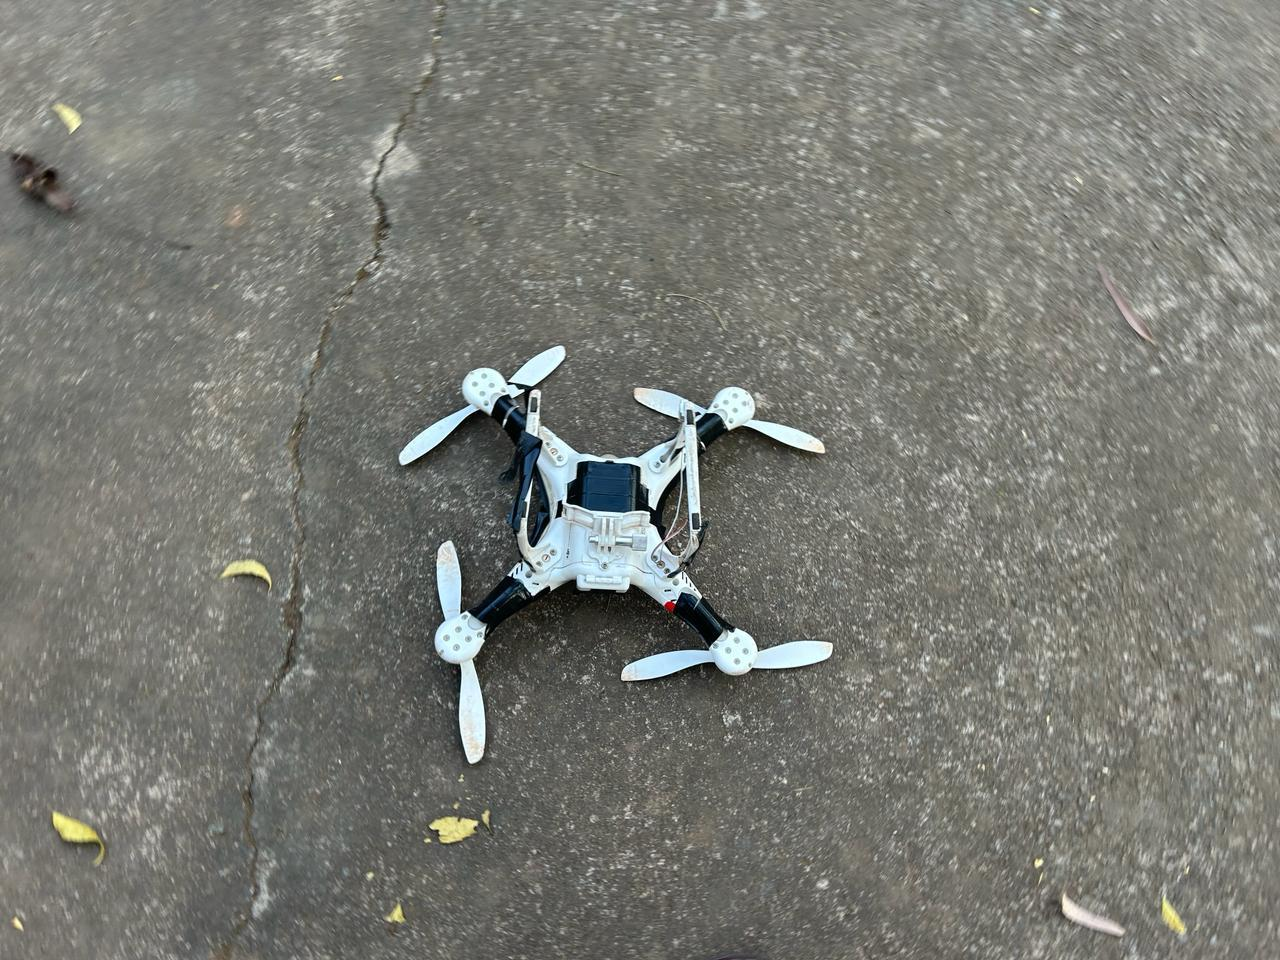drone: (197, 264, 1012, 841)
